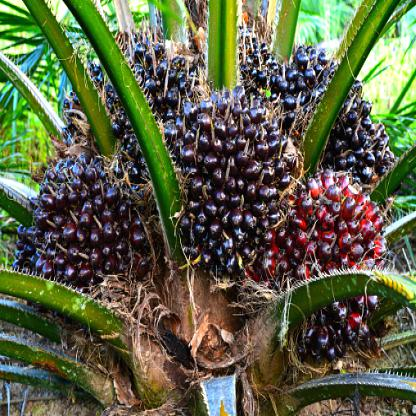1: (264, 180, 390, 363)
palm-oil: (159, 87, 294, 281), (19, 148, 167, 310), (278, 42, 392, 174), (61, 43, 197, 147), (230, 13, 281, 84)
